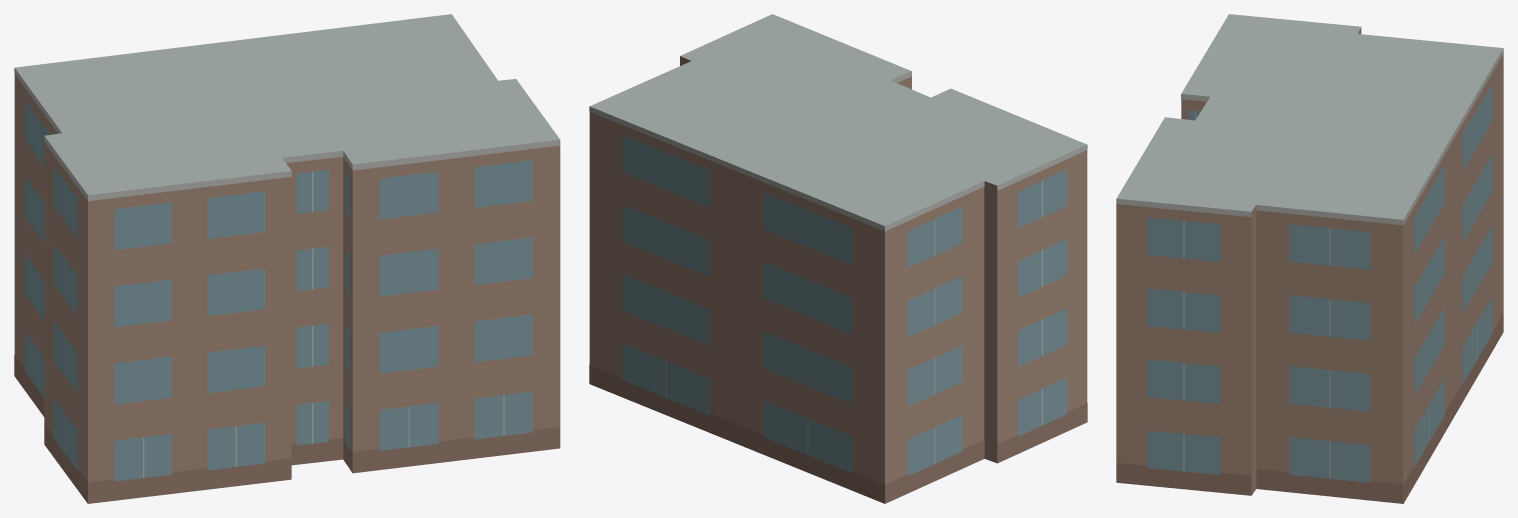
The model's file is survey-upis-32763931.glb.
3 views of the same model, side by side, from view 1: azimuth 30°, elevation 25°; view 2: azimuth 150°, elevation 25°; view 3: azimuth 270°, elevation 25° (orthographic). The views are drawn at different scales.
Parts seen in each view (by area): view 1: survey-upis-32763931.tmp; view 2: survey-upis-32763931.tmp; view 3: survey-upis-32763931.tmp.
Boxes of the visible parts, x1,y1,x2,y2 form: survey-upis-32763931.tmp: [14, 14, 560, 503]; survey-upis-32763931.tmp: [589, 14, 1087, 503]; survey-upis-32763931.tmp: [1116, 14, 1503, 503].
Bounding box in the file's own units: 19.91 × 12.8 × 15.83.
